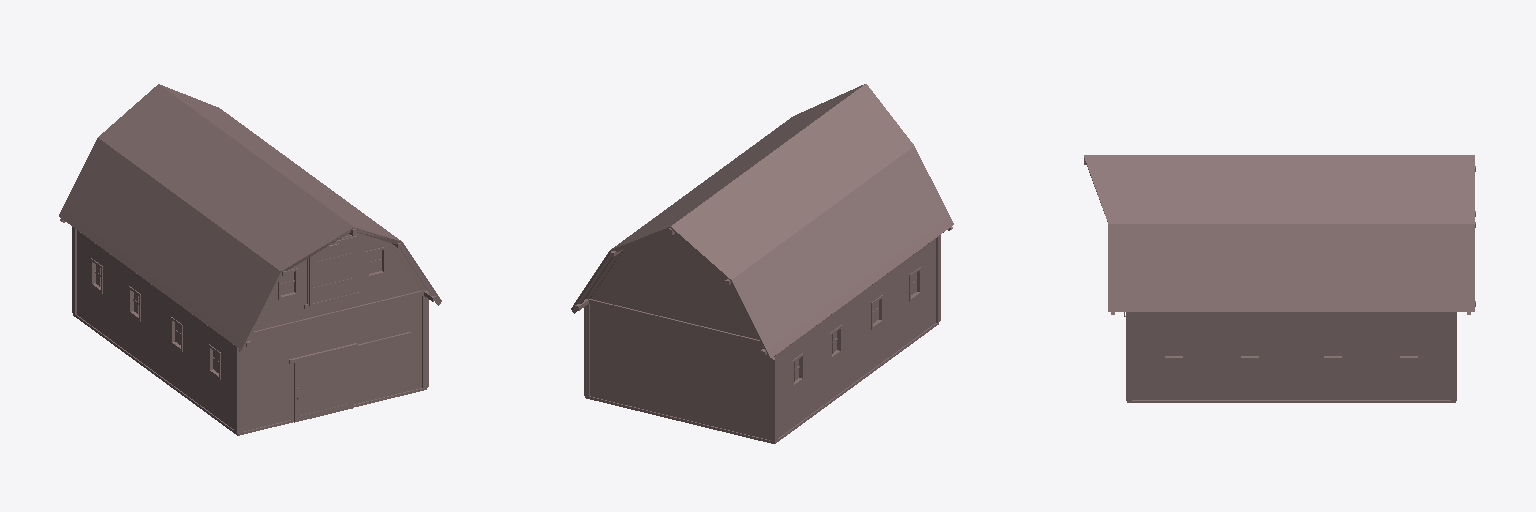
File: barn.obj
3 views of the same model, side by side, from view 1: azimuth 30°, elevation 25°; view 2: azimuth 150°, elevation 25°; view 3: azimuth 270°, elevation 25° (orthographic).
Size of the model in its own units: 10.54 by 10.07 by 17.79.